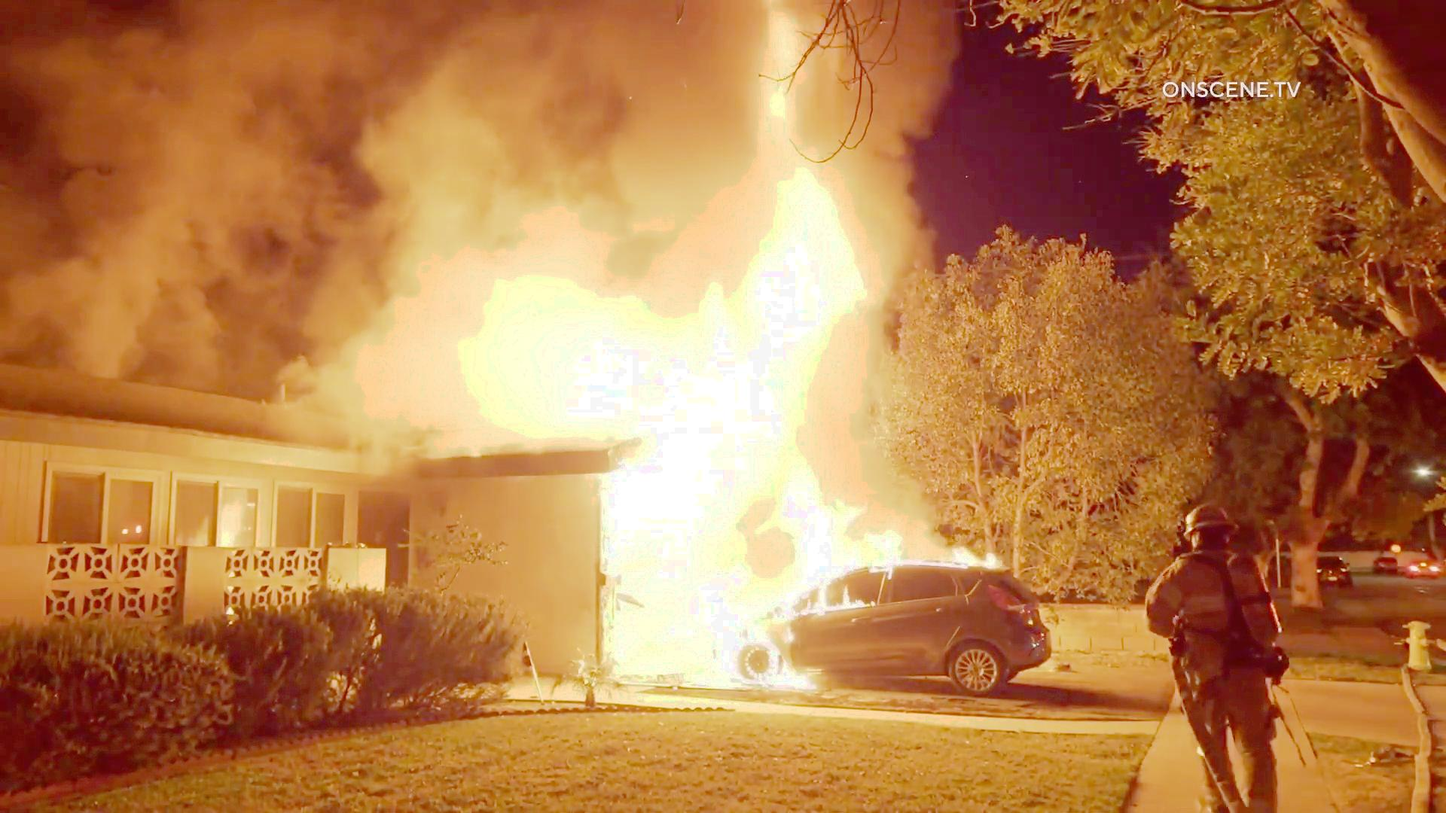fire: (438, 245, 891, 443), (688, 2, 847, 557), (780, 175, 932, 562), (667, 388, 805, 694), (607, 477, 664, 682)
smoke: (10, 2, 444, 309), (258, 8, 719, 156)
